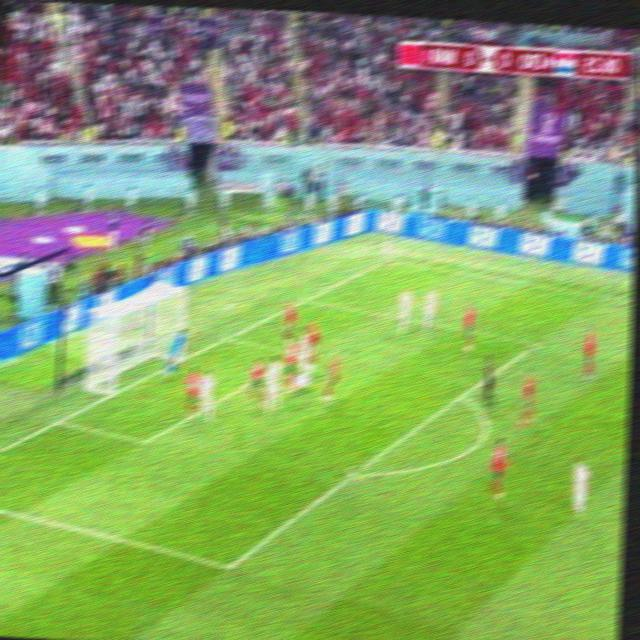bigarea_bottom_inner: (218, 551, 240, 581)
bigarea_top_inner: (527, 334, 545, 352)
bigarea_top_outter: (300, 293, 311, 308)
bottom_arc_area_intersection: (346, 464, 361, 485)
corner: (379, 257, 395, 266)
smallarea_bottom_inner: (134, 430, 158, 453)
smallarea_bottom_outter: (50, 412, 63, 432)
smallarea_top_outter: (219, 331, 233, 345)
top_arc_area_intersection: (455, 386, 467, 404)
